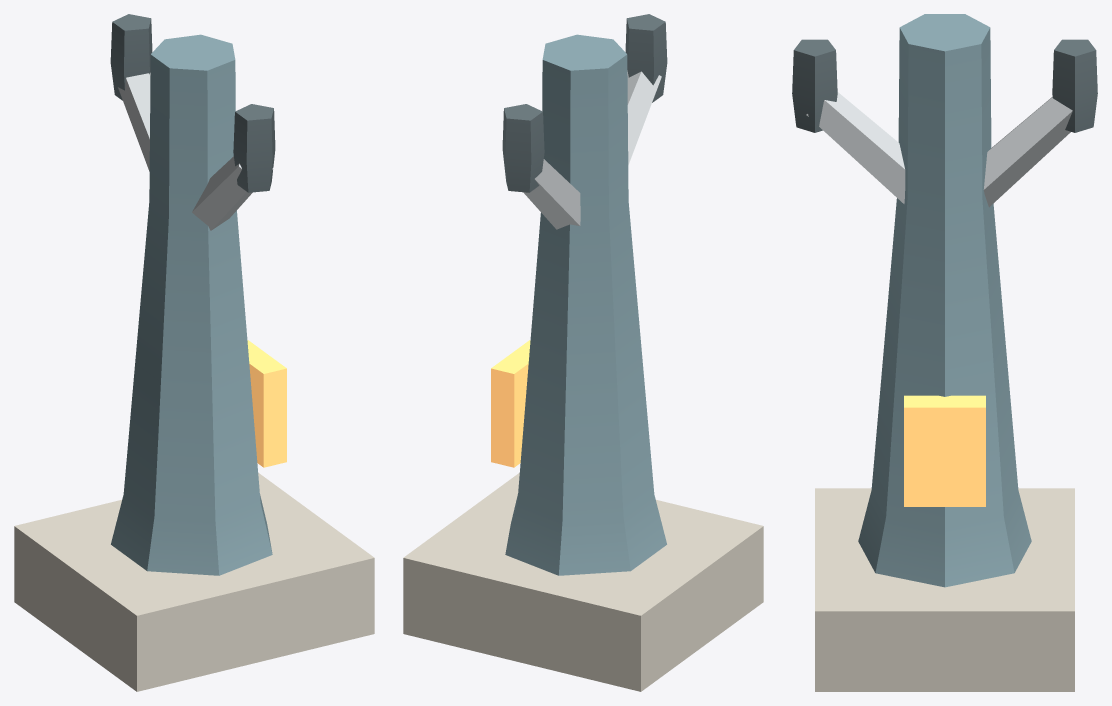
Rendered from prop_high_voltage_pillar_v4_ShadowProxy.glb.
3 views of the same model, side by side, from view 1: azimuth 30°, elevation 25°; view 2: azimuth 150°, elevation 25°; view 3: azimuth 270°, elevation 25° (orthographic). The views are drawn at different scales.
Parts seen in each view (by area): view 1: prop_high_voltage_pillar_v4_ShadowProxy / Primary assembly; view 2: prop_high_voltage_pillar_v4_ShadowProxy / Primary assembly; view 3: prop_high_voltage_pillar_v4_ShadowProxy / Primary assembly.
Boxes of the visible parts, x1,y1,x2,y2 form: prop_high_voltage_pillar_v4_ShadowProxy / Primary assembly: (14, 14, 374, 691); prop_high_voltage_pillar_v4_ShadowProxy / Primary assembly: (403, 14, 763, 691); prop_high_voltage_pillar_v4_ShadowProxy / Primary assembly: (792, 14, 1097, 691).
Size of the model in its own units: 0.85 by 1.93 by 0.8931.
